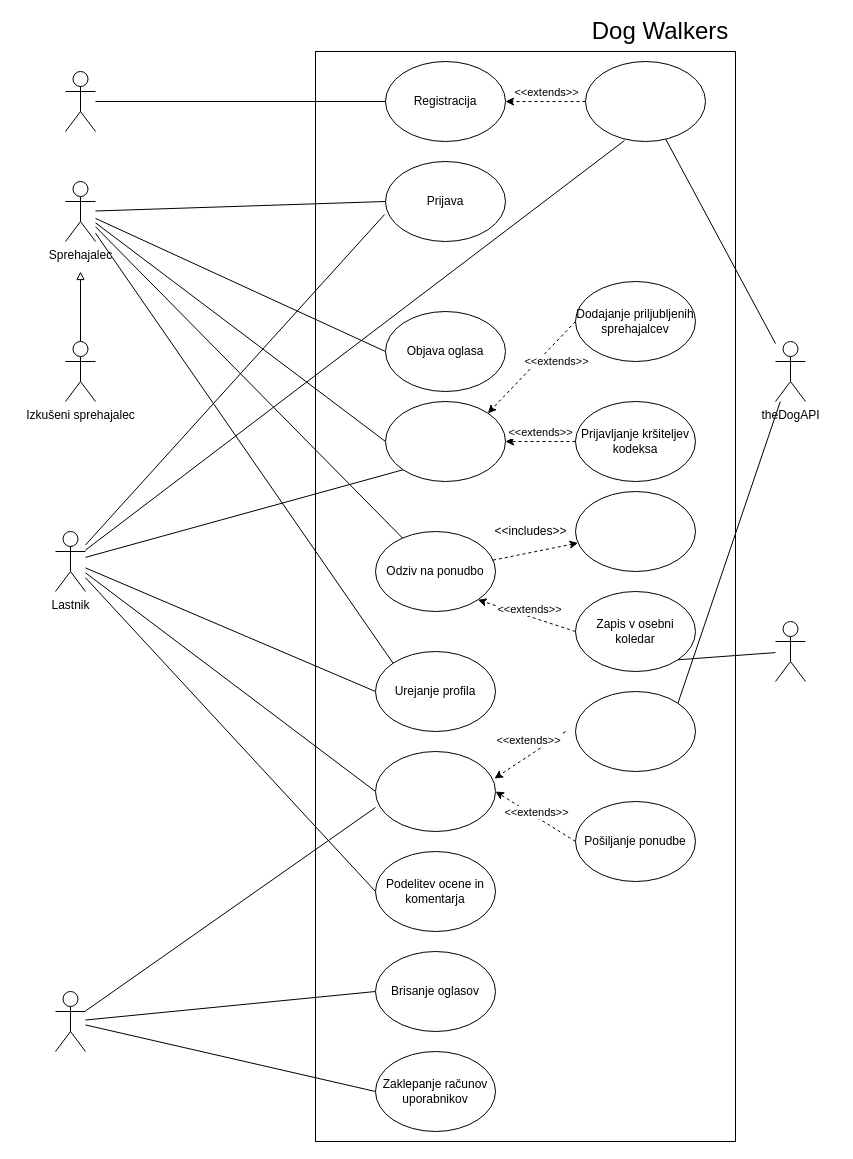
Image size: 853x1159. Some labels were removed from this diagram. Each missing label, with the centre of its shape:
"Administrator" goes at point (70, 1021).
"Dodajanje psa" goes at point (645, 101).
"Filtriranje oglasov" goes at point (635, 731).
"Google Calendar" goes at point (790, 651).
"Izračun povprečnega odzivnega časa" goes at point (635, 531).
"Neregistrirani uporabnik" goes at point (80, 101).
"Ogled oglasov" goes at point (435, 791).
"Pogled zgodovine sprehodov" goes at point (445, 441).
